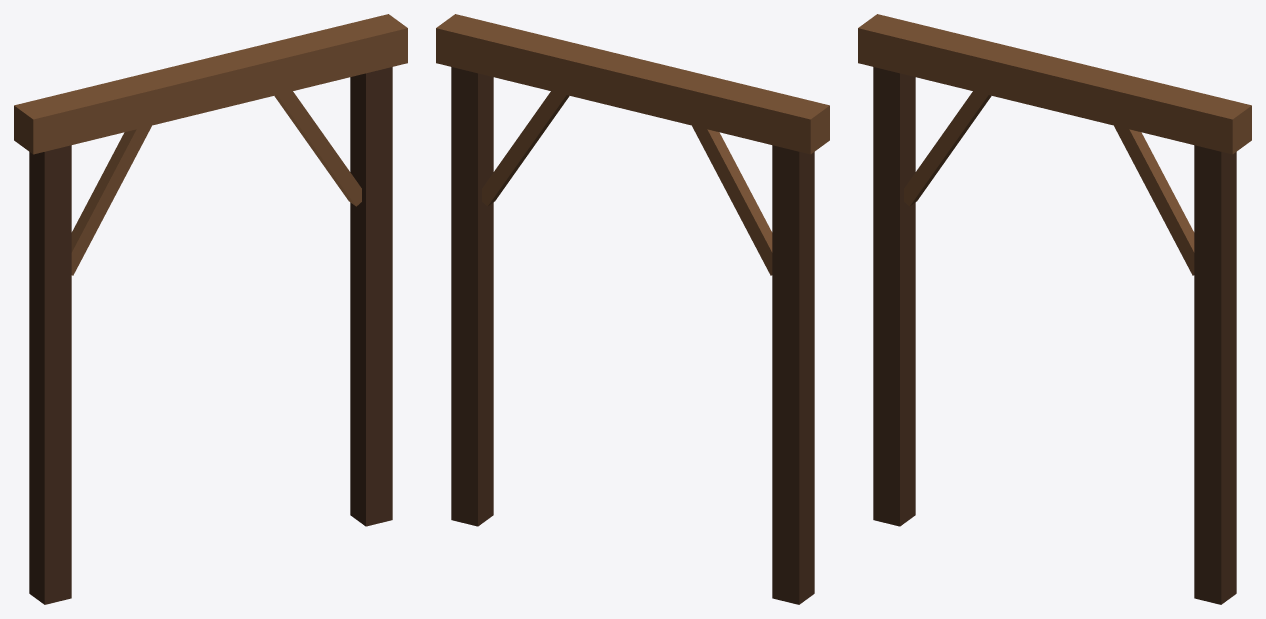
The model's file is support_beam.glb.
3 renders of one model, left to right at view 1: azimuth 30°, elevation 25°; view 2: azimuth 150°, elevation 25°; view 3: azimuth 330°, elevation 25°, orthographic.
Parts seen in each view (by area): view 1: support_beam; view 2: support_beam; view 3: support_beam.
Boxes of the visible parts, x1,y1,x2,y2 form: support_beam: [14, 14, 407, 604]; support_beam: [436, 14, 829, 604]; support_beam: [858, 14, 1251, 604].
Bounding box in the file's own units: 2.8 × 3.5 × 0.25.
